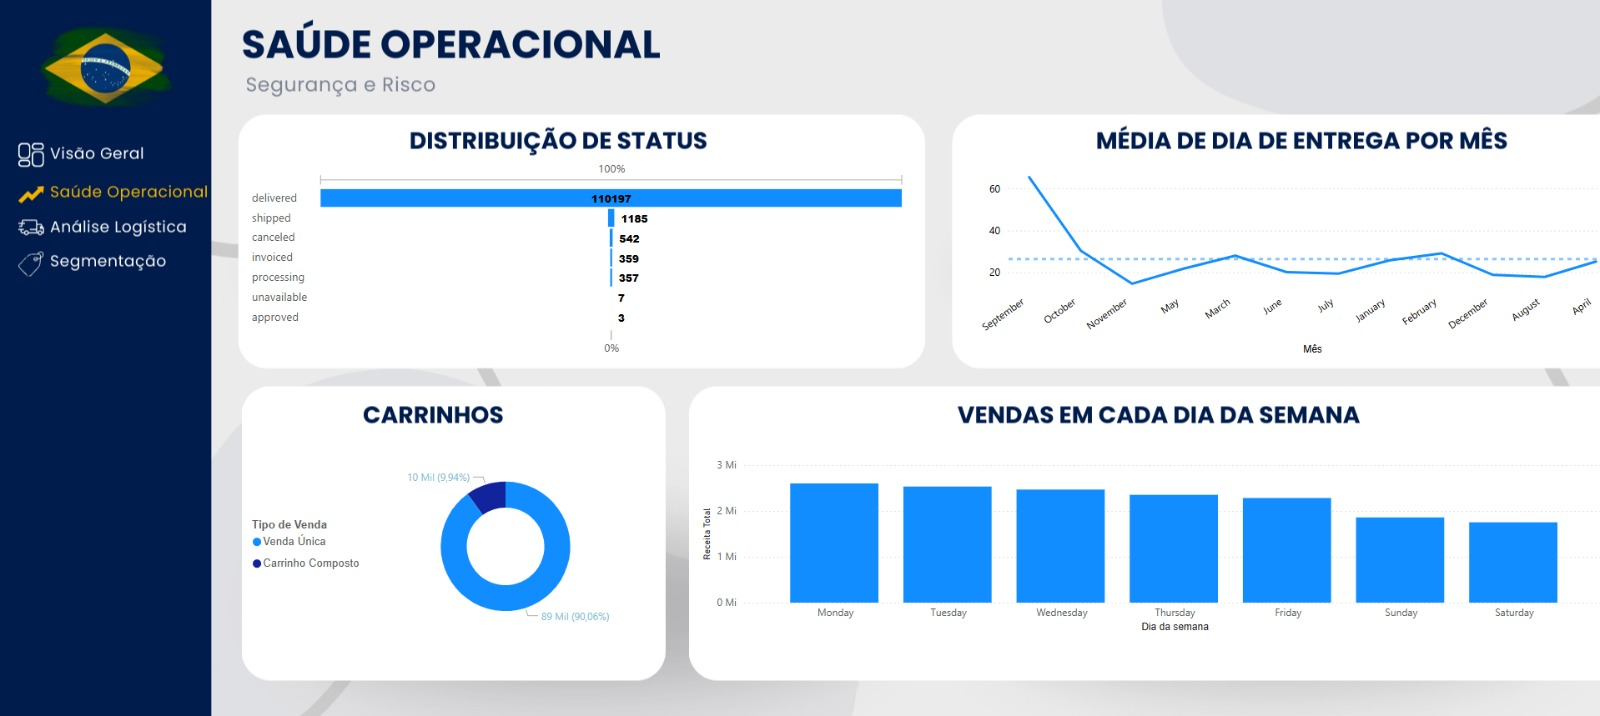

The page's visual inventory and layout, read from the dashboard file:
{"tool":"powerbi","page":{"name":"Saúde Operacional","canvas":[2000,866],"ordinal":1},"visuals":[{"type":"donutChart","fields":{"Y":["Sum(Vendas Compostas.total_pedidos)"],"Category":["Vendas Compostas.tipo_venda"]},"box":[297.1,548.6,480,217.1],"z":0},{"type":"lineChart","fields":{"Category":["Consulta1.nam_mes"],"Y":["Sum(Consulta1.media_dias_entrega)"]},"box":[1158.6,188.6,784.3,244.3],"z":1000},{"type":"columnChart","fields":{"Category":["Consulta2.dia_semana"],"Y":["Sum(Consulta2.receita_total)"]},"box":[837.1,545.7,1091.4,220],"z":2000},{"type":"funnel","fields":{"Category":["Status de Entrega.status_pedido"],"Y":["Sum(Status de Entrega.qtd_itens)"]},"box":[297.1,188.6,794.3,244.3],"z":3000},{"type":"actionButton","box":[0,167.6,252.9,39.7],"z":4000},{"type":"actionButton","box":[0,251.5,252.9,39.7],"z":5000},{"type":"actionButton","box":[0,291.2,252.9,44.1],"z":6000}]}

Visuals, with their boxes on the page's 2000x866 design canvas (x1, y1, x2, y2). These are canvas units, not pixel positions in the 1600x716 screenshot, which may show the page scaled, cropped or inside an application window:
donutChart - Sum(Vendas Compostas.total_pedidos) x Vendas Compostas.tipo_venda: BBox(297, 549, 777, 766)
lineChart - Consulta1.nam_mes x Sum(Consulta1.media_dias_entrega): BBox(1159, 189, 1943, 433)
columnChart - Consulta2.dia_semana x Sum(Consulta2.receita_total): BBox(837, 546, 1928, 766)
funnel - Status de Entrega.status_pedido x Sum(Status de Entrega.qtd_itens): BBox(297, 189, 1091, 433)
actionButton: BBox(0, 168, 253, 207)
actionButton: BBox(0, 252, 253, 291)
actionButton: BBox(0, 291, 253, 335)
